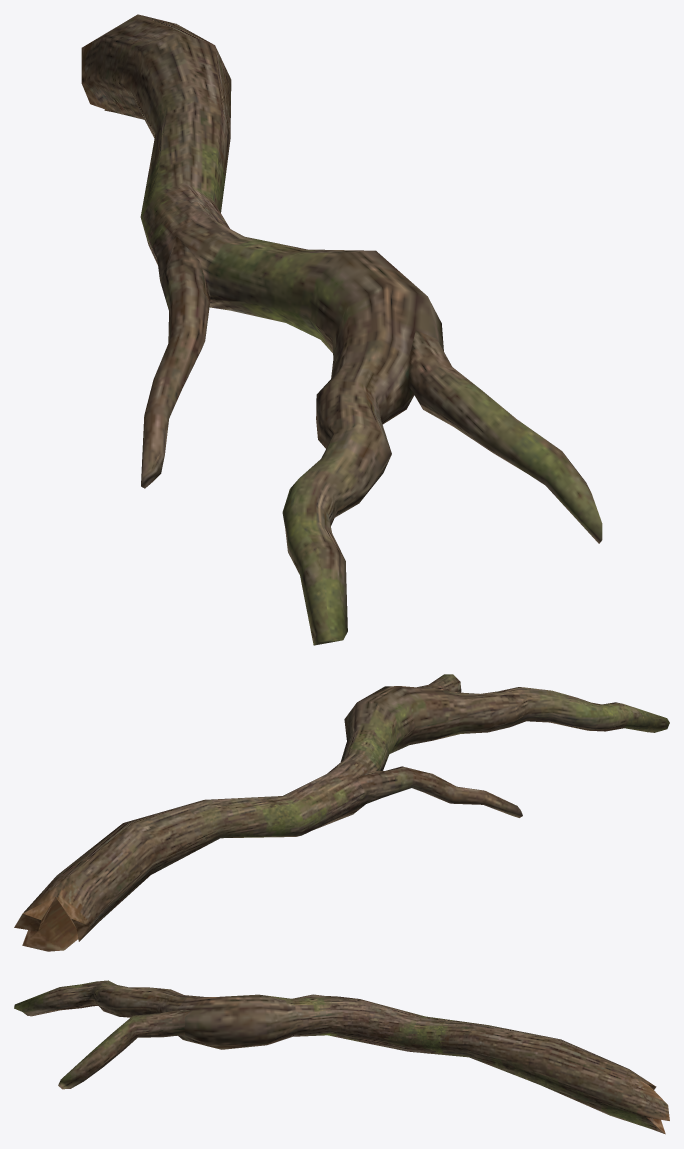
The model's file is TreeRoot2.fbx.
3 renders of one model, top to bottom at view 1: azimuth 30°, elevation 25°; view 2: azimuth 150°, elevation 25°; view 3: azimuth 270°, elevation 25°, orthographic. The views are drawn at different scales.
Parts seen in each view (by area): view 1: SM_cmn_mount_Root_02a; view 2: SM_cmn_mount_Root_02a; view 3: SM_cmn_mount_Root_02a.
Part boxes in pixels (x1,y1,x2,y2): SM_cmn_mount_Root_02a: (81,14,602,645); SM_cmn_mount_Root_02a: (14,674,669,951); SM_cmn_mount_Root_02a: (14,980,669,1134).
Size of the model in its own units: 132 by 48.25 by 307.
